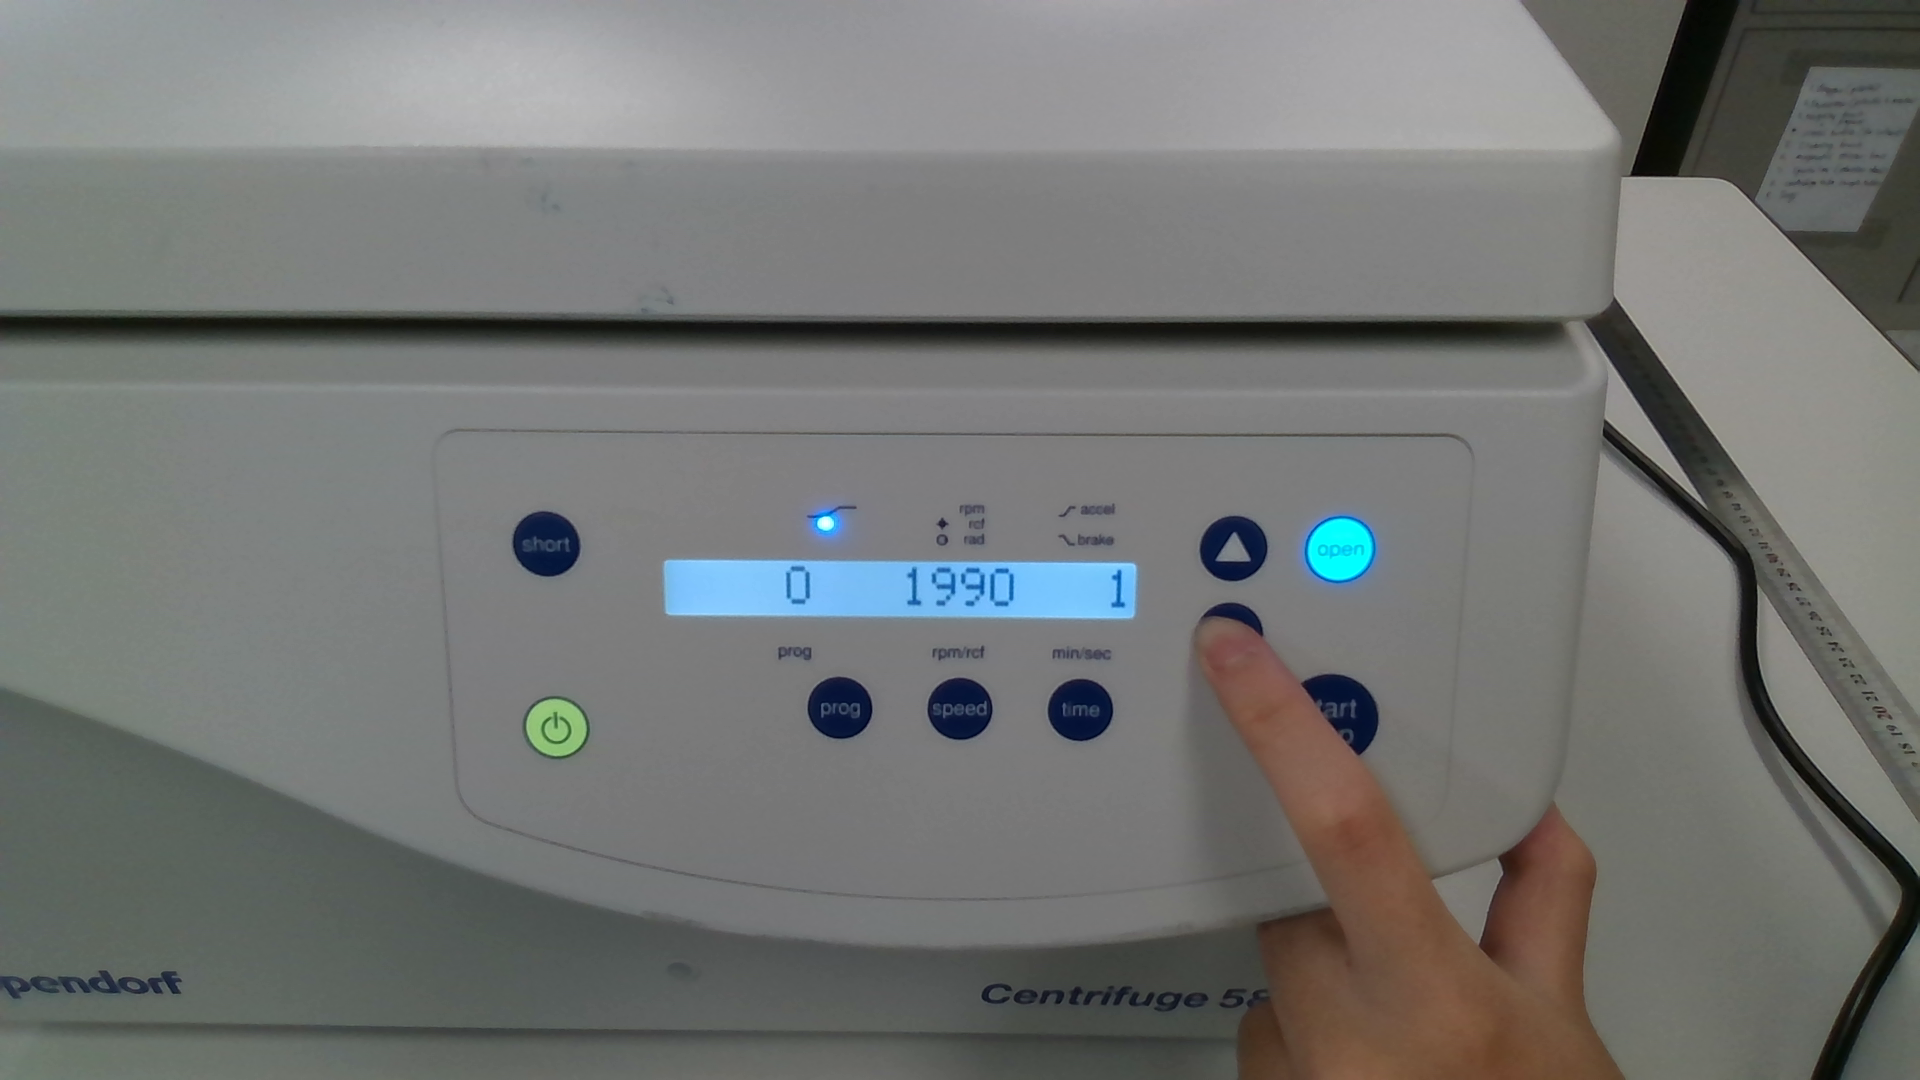0: (786, 566, 811, 605), (989, 568, 1014, 607)
1: (902, 567, 927, 607), (1106, 568, 1131, 608)
9: (931, 567, 956, 607), (960, 568, 985, 607)
open_on: (1304, 516, 1375, 584)
power_on: (522, 696, 589, 760)
